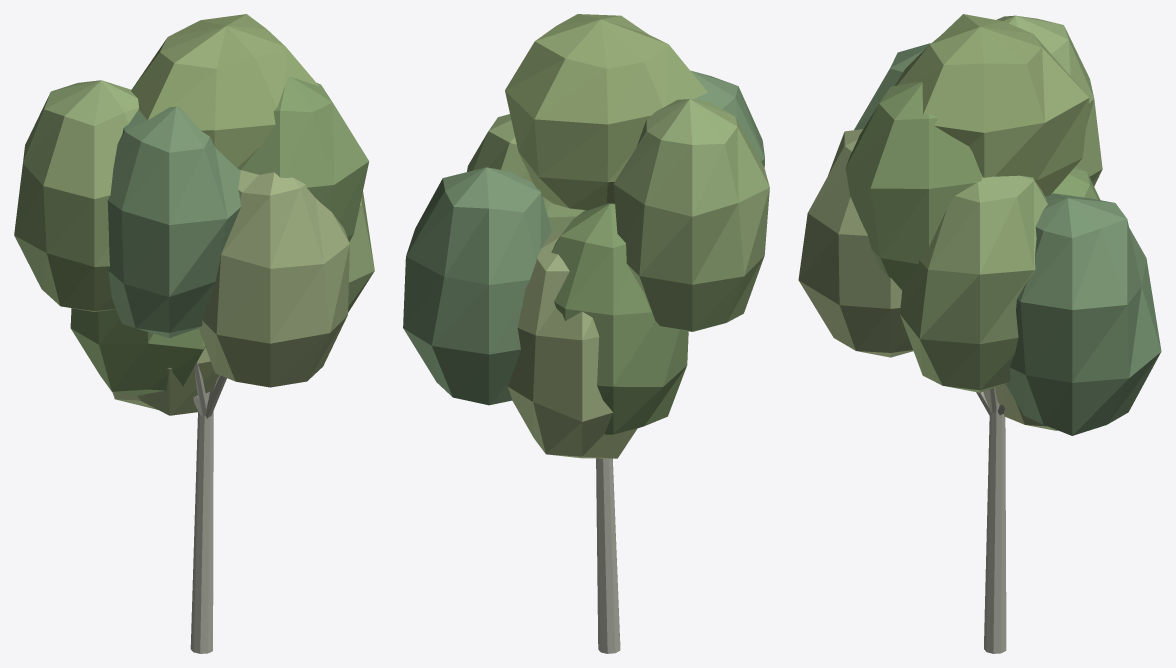
The picture shows the model from 3 angles, left to right: view 1: azimuth 30°, elevation 25°; view 2: azimuth 150°, elevation 25°; view 3: azimuth 270°, elevation 25°; orthographic projection.
Size of the model in its own units: 8.33 by 15.56 by 8.12.
